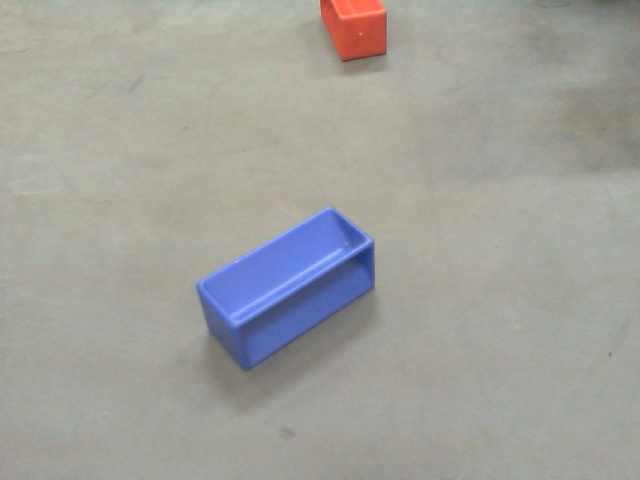BlueSample: (194, 206, 378, 374)
RedSample: (318, 1, 394, 64)
